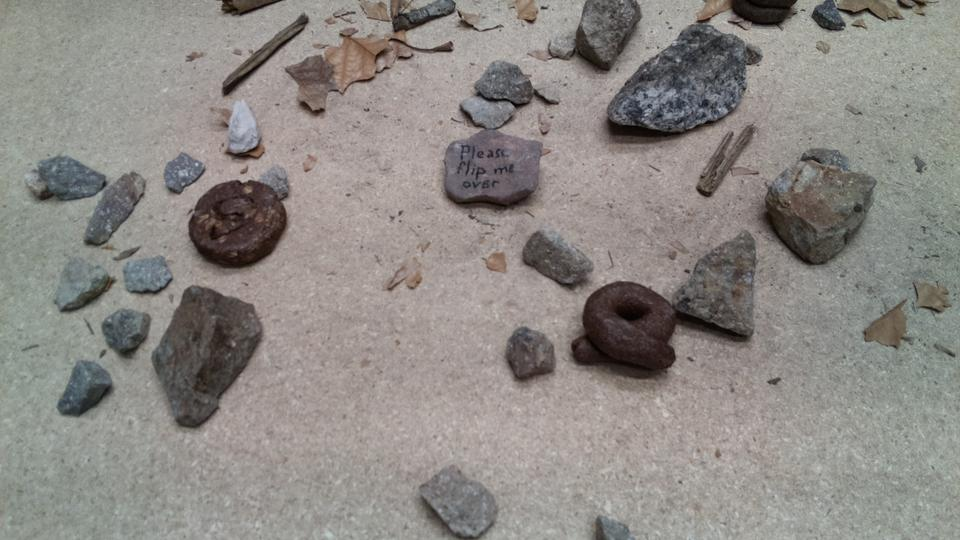poop: (569, 278, 675, 377), (187, 178, 284, 271), (726, 1, 797, 26)
